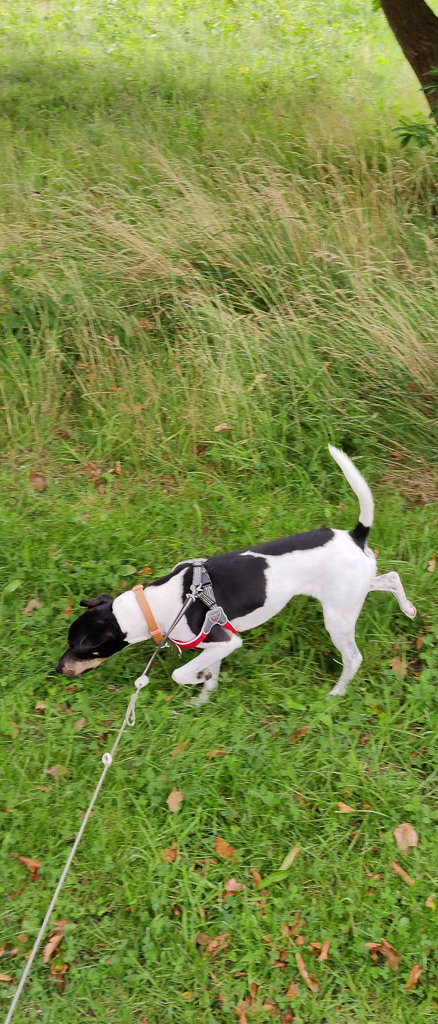Dog: (45, 434, 430, 716)
